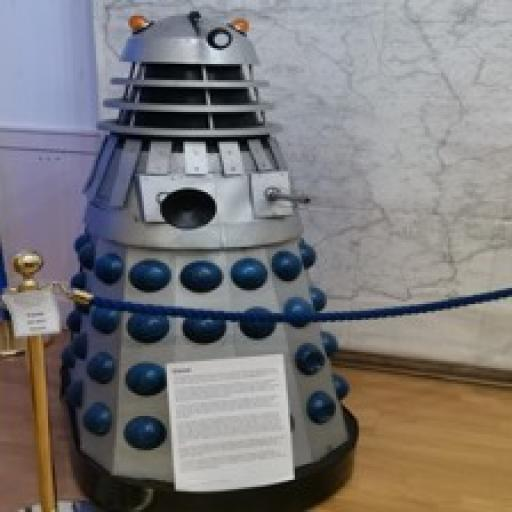dalek: (59, 11, 359, 512)
